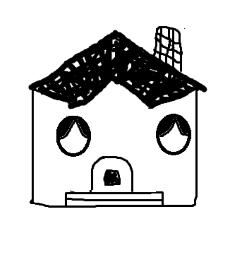chimney: (150, 17, 190, 72)
door: (90, 152, 136, 203)
open_window: (143, 108, 195, 165), (49, 112, 98, 162)
shaded_roof: (18, 17, 213, 102)
wall: (27, 88, 203, 212)
